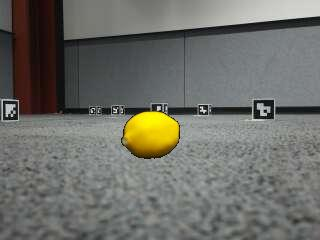lemon: (122, 112, 180, 158)
